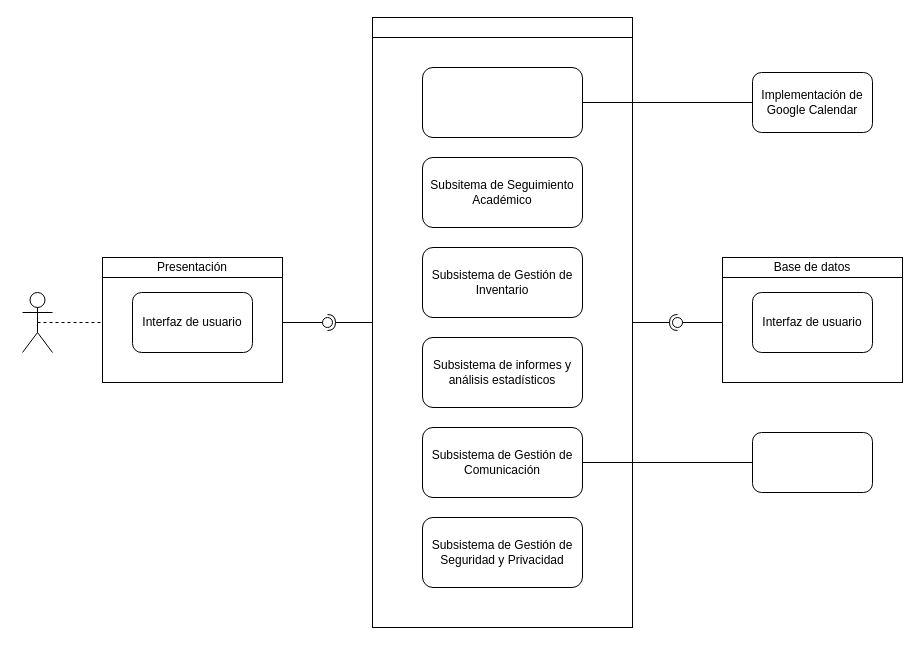
Image size: 920x645. Some labels were removed from this diagram. The centre of each missing label's shape, as x and y in pixels:
Implementación de Google Meet: point (812, 462)
Lógica de Negocio: point (502, 27)
Subsitema de Gestión de Alumnos: point (502, 102)
Usuario: point (37, 322)
